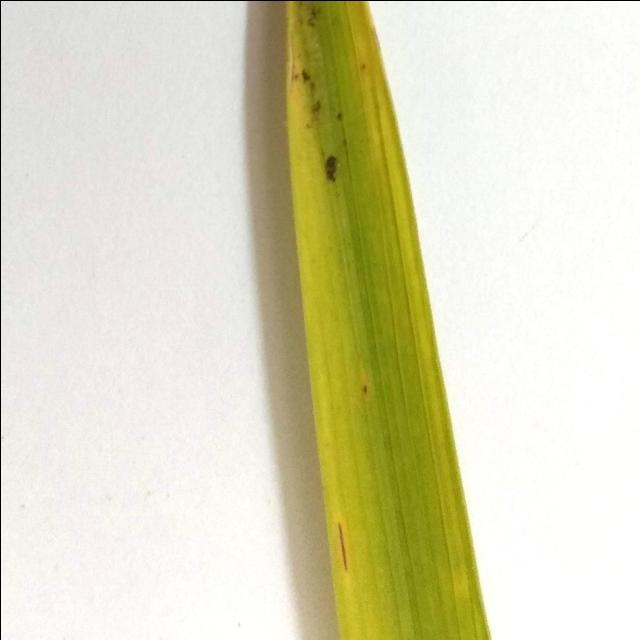Brown spot: (274, 0, 488, 640)
